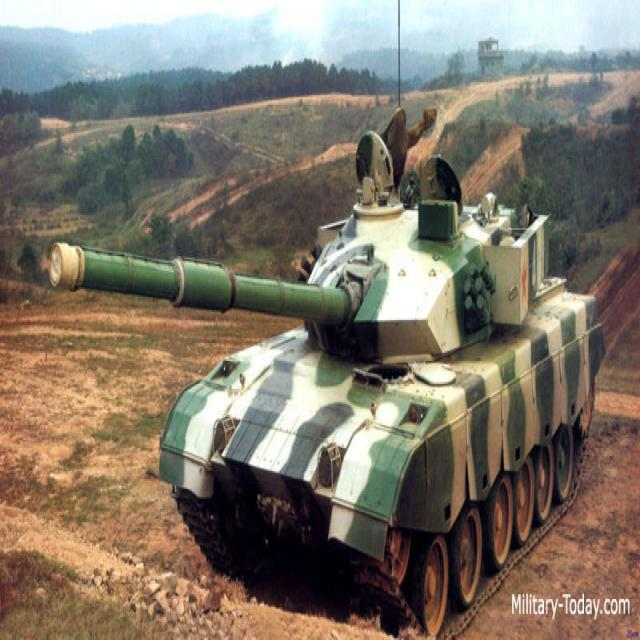Tank: (36, 151, 622, 583)
